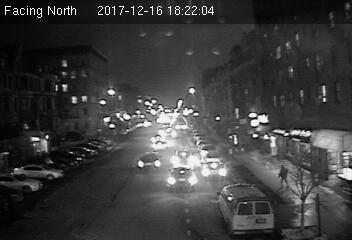car: (166, 168, 198, 192), (200, 161, 229, 181), (171, 149, 197, 171), (137, 152, 162, 171)
pedestrian: (279, 165, 293, 194)
police: (216, 179, 277, 234)
